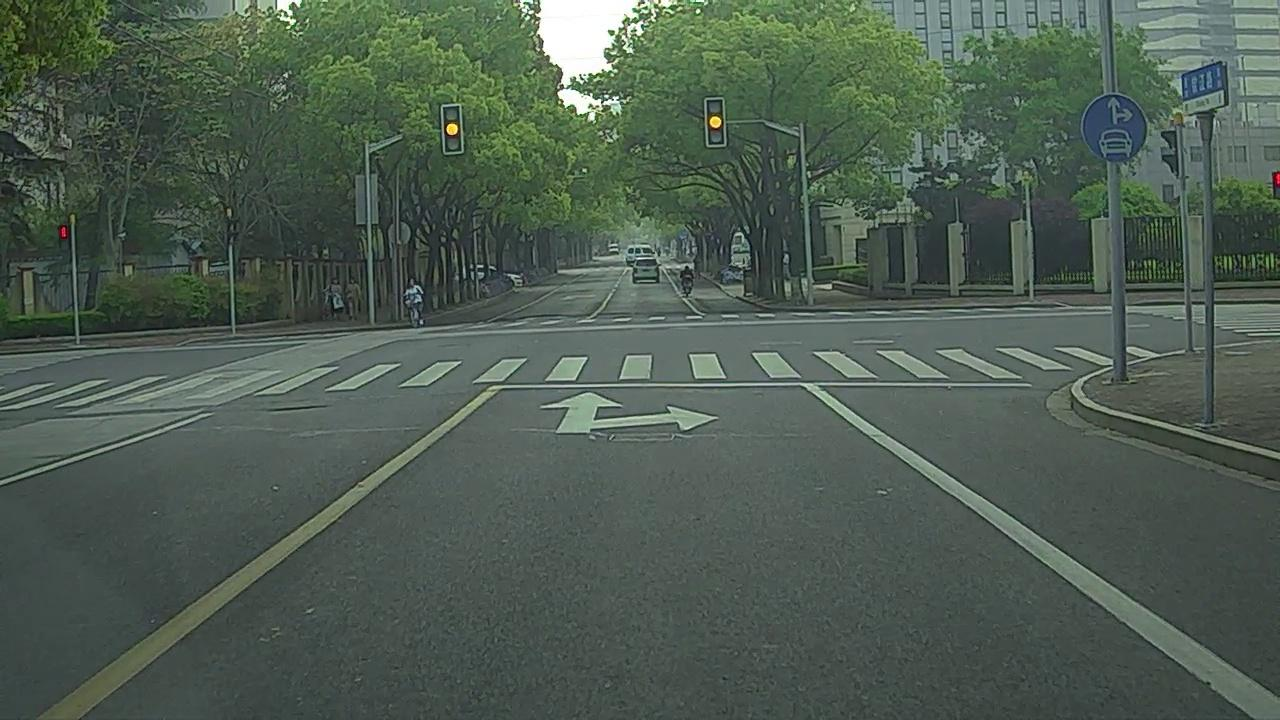traffic_light: (442, 105, 463, 153), (705, 99, 726, 145)
